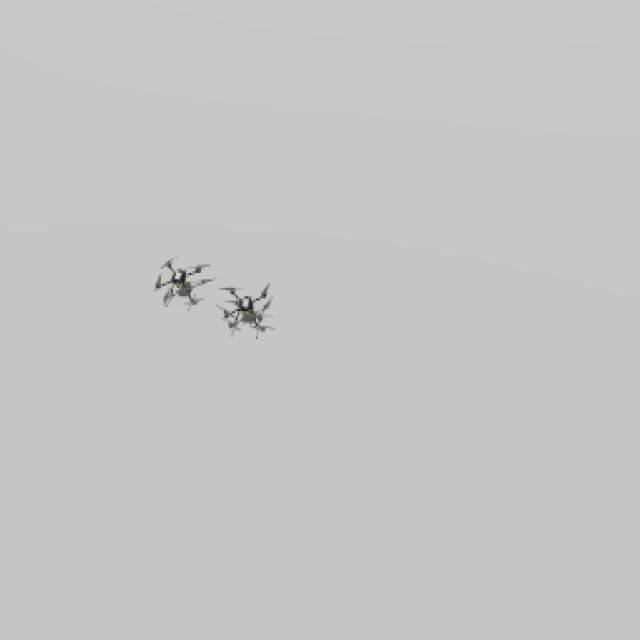drone: (152, 252, 212, 307), (219, 286, 278, 338)
